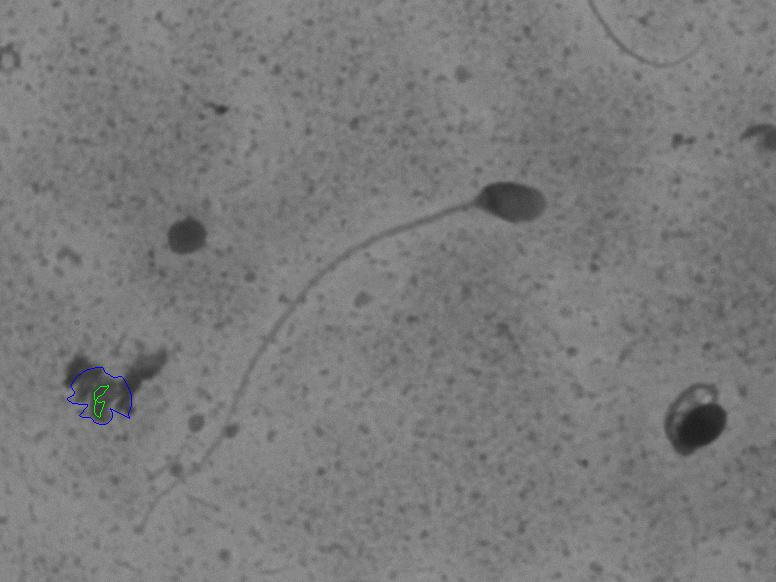Abnormal: (202, 151, 571, 471), (625, 355, 758, 492)
